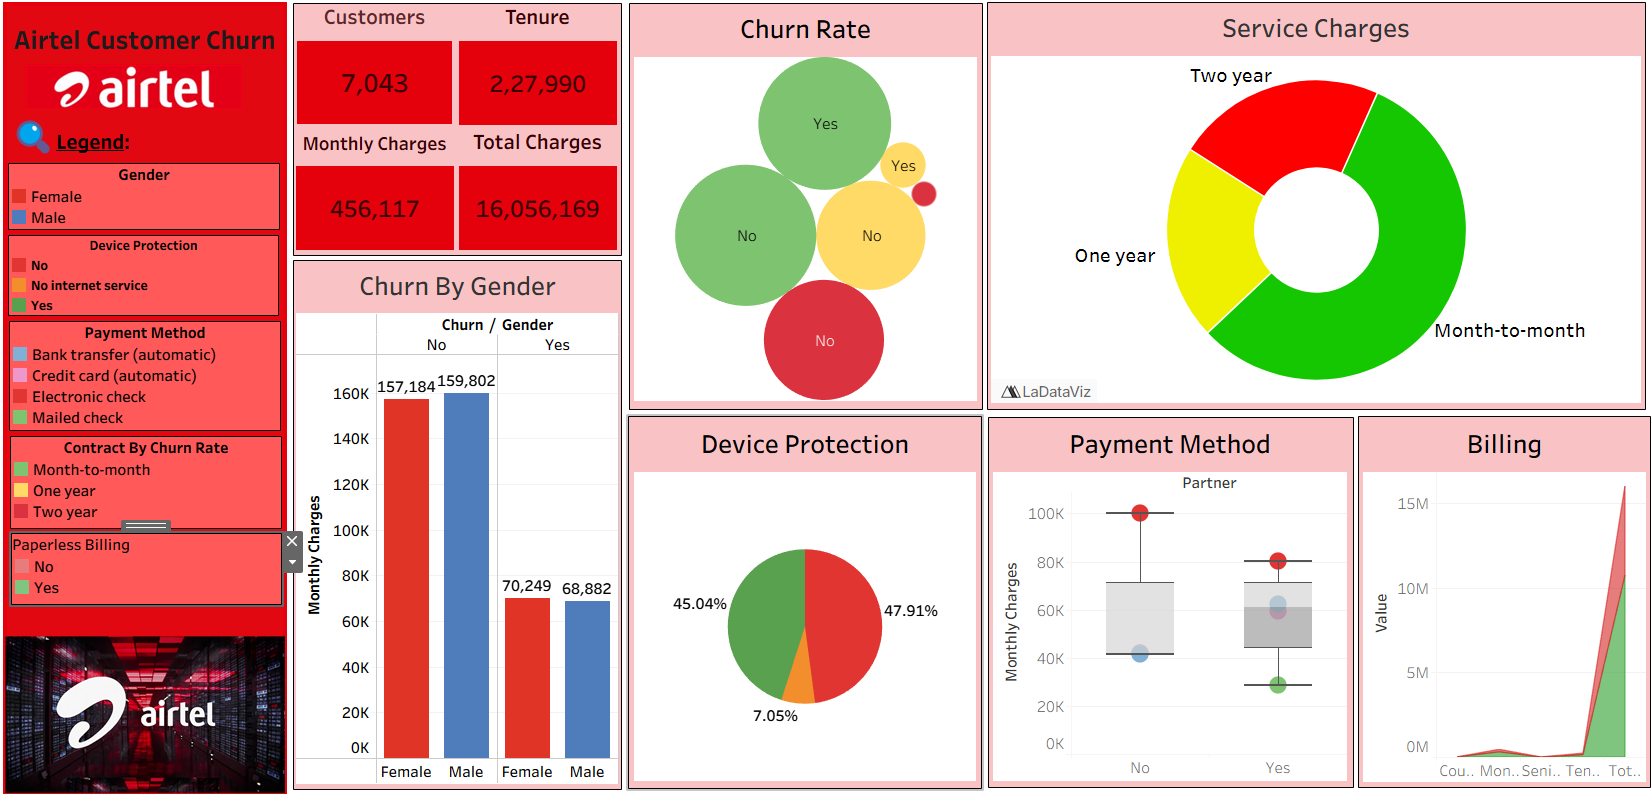

The dashboard page shown, as its layout file describes it:
{"tool":"tableau","page":{"name":"Dashboard 1","canvas":[1000,1000],"units":"permille","ordinal":0},"visuals":[{"type":"worksheet","title":"Total Customers","mark":"Automatic","box":[182.9,2.5,96,168.5]},{"type":"worksheet","title":"Tenure","mark":"Automatic","box":[280.6,2.5,97.2,173.5]},{"type":"blank","box":[599.3,6.2,397.7,510.6]},{"type":"blank","box":[5.4,7.5,171.4,988.8]},{"type":"blank","box":[180.5,8.7,198.6,315.9]},{"type":"blank","box":[383.2,8.7,213.6,508.1]},{"type":"worksheet","title":"Service Charges","box":[601.7,12.5,392.3,495.6]},{"type":"worksheet","title":"Churn Rate","mark":"Circle","box":[386.2,13.7,207,494.4]},{"type":"image","param":"Image/Screenshot 2026-02-04 155725.png","box":[18.7,84.9,150.9,56.2]},{"type":"text","box":[7.9,153.6,79.7,52.4]},{"type":"worksheet","title":"Total Charges","mark":"Automatic","box":[280.6,158.6,96.6,161.1]},{"type":"worksheet","title":"Monthly Charges","mark":"Automatic","box":[182.3,162.3,95.4,158.6]},{"type":"legend","title":"Churn By Gender","param":"[federated.0kw237k02sya1d1651acd029iym7].[none:gender:nk]","box":[8.4,208.5,164.2,83.7]},{"type":"legend","title":"Device Protection","param":"[federated.0kw237k02sya1d1651acd029iym7].[none:DeviceProtection:nk]","box":[8.4,298.4,163.6,101.1]},{"type":"blank","box":[180.5,329.6,198.6,661.7]},{"type":"worksheet","title":"Churn By Gender","mark":"Automatic","rows":["MonthlyCharges"],"cols":["Churn","gender"],"box":[182.3,334.6,194.9,649.2]},{"type":"legend","title":"Payment Method","param":"[federated.0kw237k02sya1d1651acd029iym7].[none:PaymentMethod:nk]","box":[9.1,405.7,164.2,137.3]},{"type":"blank","box":[382.6,524.3,213.6,465.7]},{"type":"blank","box":[823.2,524.3,176.8,464.4]},{"type":"blank","box":[599.9,525.6,220.9,463.2]},{"type":"worksheet","title":"Device Protection","mark":"Pie","box":[386.2,531.8,206.4,448.2]},{"type":"worksheet","title":"Payment Method","mark":"Circle","rows":["MonthlyCharges"],"cols":["Partner"],"box":[602.9,531.8,213.6,448.2]},{"type":"worksheet","title":"Billing","mark":"Area","box":[826.2,531.8,170.8,449.4]},{"type":"legend","title":"Churn Rate","param":"[federated.0kw237k02sya1d1651acd029iym7].[none:Contract:nk]","box":[9.7,549.3,164.2,116.1]},{"type":"legend","title":"Billing","param":"[federated.0kw237k02sya1d1651acd029iym7].[none:PaperlessBilling:nk]","box":[10.3,670.4,163.6,89.9]},{"type":"image","param":"Image/Airtel Logo.png","box":[6.6,799,169,206]}]}

Visuals, with their boxes on the dashboard's canvas, which has no fixed pixel size, in thousandths of its width and height (x1, y1, x2, y2). These are canvas units, not pixel positions in the 1651x795 screenshot, which may show the page scaled, cropped or inside an application window:
"Total Customers" worksheet: crop(183, 2, 279, 171)
"Tenure" worksheet: crop(281, 2, 378, 176)
blank: crop(599, 6, 997, 517)
blank: crop(5, 8, 177, 996)
blank: crop(180, 9, 379, 325)
blank: crop(383, 9, 597, 517)
"Service Charges" worksheet: crop(602, 12, 994, 508)
"Churn Rate" worksheet (Circle marks): crop(386, 14, 593, 508)
image: crop(19, 85, 170, 141)
text: crop(8, 154, 88, 206)
"Total Charges" worksheet: crop(281, 159, 377, 320)
"Monthly Charges" worksheet: crop(182, 162, 278, 321)
"Churn By Gender" legend: crop(8, 208, 173, 292)
"Device Protection" legend: crop(8, 298, 172, 400)
blank: crop(180, 330, 379, 991)
"Churn By Gender" worksheet: crop(182, 335, 377, 984)
"Payment Method" legend: crop(9, 406, 173, 543)
blank: crop(383, 524, 596, 990)
blank: crop(823, 524, 1000, 989)
blank: crop(600, 526, 821, 989)
"Device Protection" worksheet (Pie marks): crop(386, 532, 593, 980)
"Payment Method" worksheet (Circle marks): crop(603, 532, 816, 980)
"Billing" worksheet (Area marks): crop(826, 532, 997, 981)
"Churn Rate" legend: crop(10, 549, 174, 665)
"Billing" legend: crop(10, 670, 174, 760)
image: crop(7, 799, 176, 1005)
